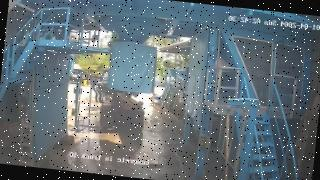cement_mixer_truck: (99, 70, 144, 129)
